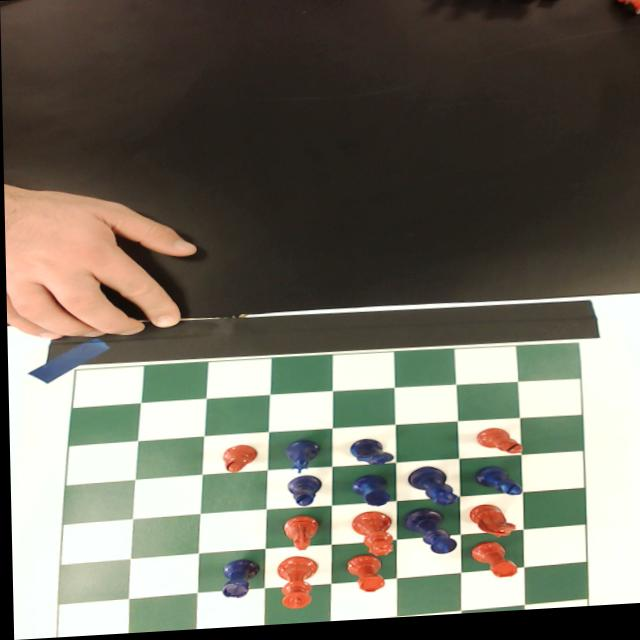B: (469, 469, 522, 504), (282, 476, 322, 512)
K: (400, 511, 457, 562)
N: (341, 440, 394, 472), (280, 442, 320, 477)
Q: (404, 470, 459, 512)
R: (214, 560, 259, 601), (347, 477, 389, 512)
b: (474, 432, 522, 462), (218, 446, 257, 476)
k: (272, 557, 317, 613)
n: (466, 508, 516, 545), (280, 517, 319, 554)
q: (348, 513, 391, 561)
r: (467, 545, 516, 585), (343, 558, 385, 596)
